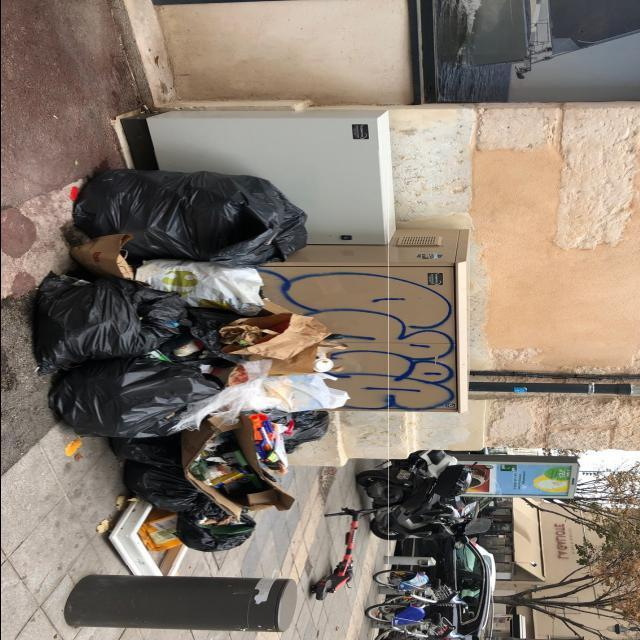Trashbag: (69, 159, 313, 282), (18, 272, 182, 358), (61, 357, 224, 439), (118, 450, 202, 517), (189, 500, 254, 558), (274, 406, 328, 446)
